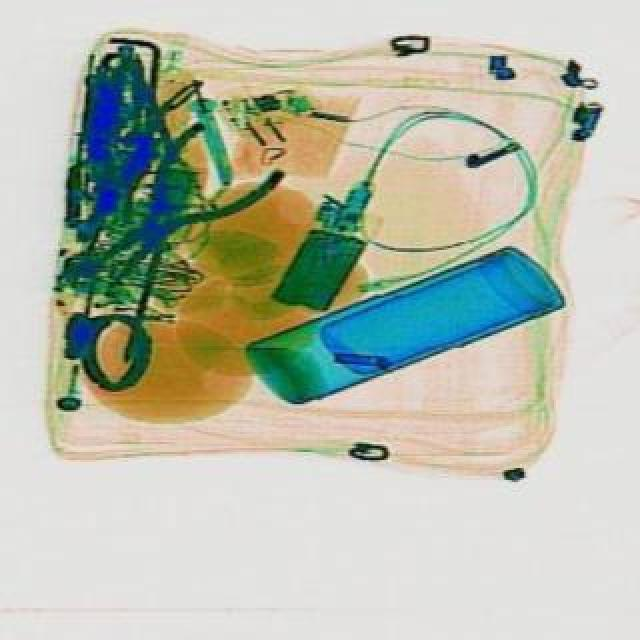wrench: (62, 108, 294, 318)
